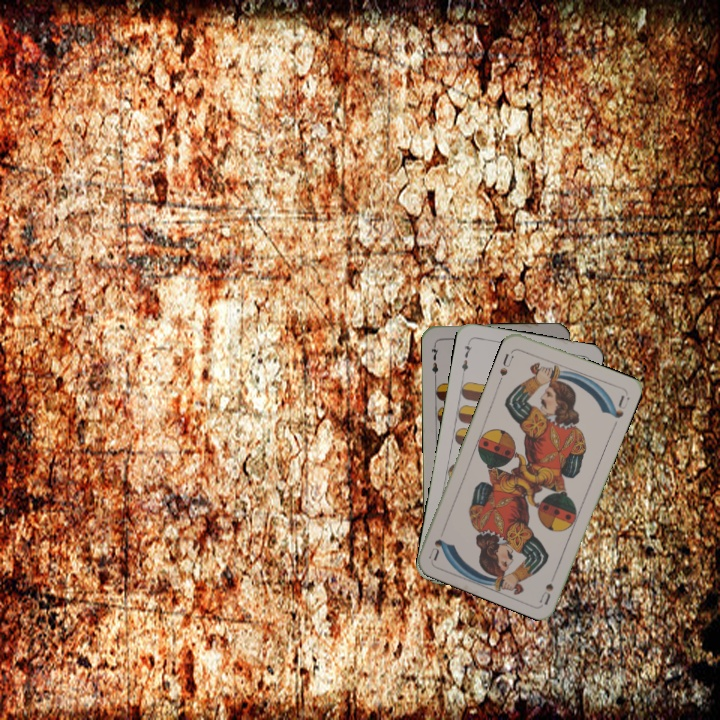E7: (457, 337, 475, 378), (427, 339, 441, 380)
SU: (536, 566, 560, 606), (496, 349, 516, 379)
